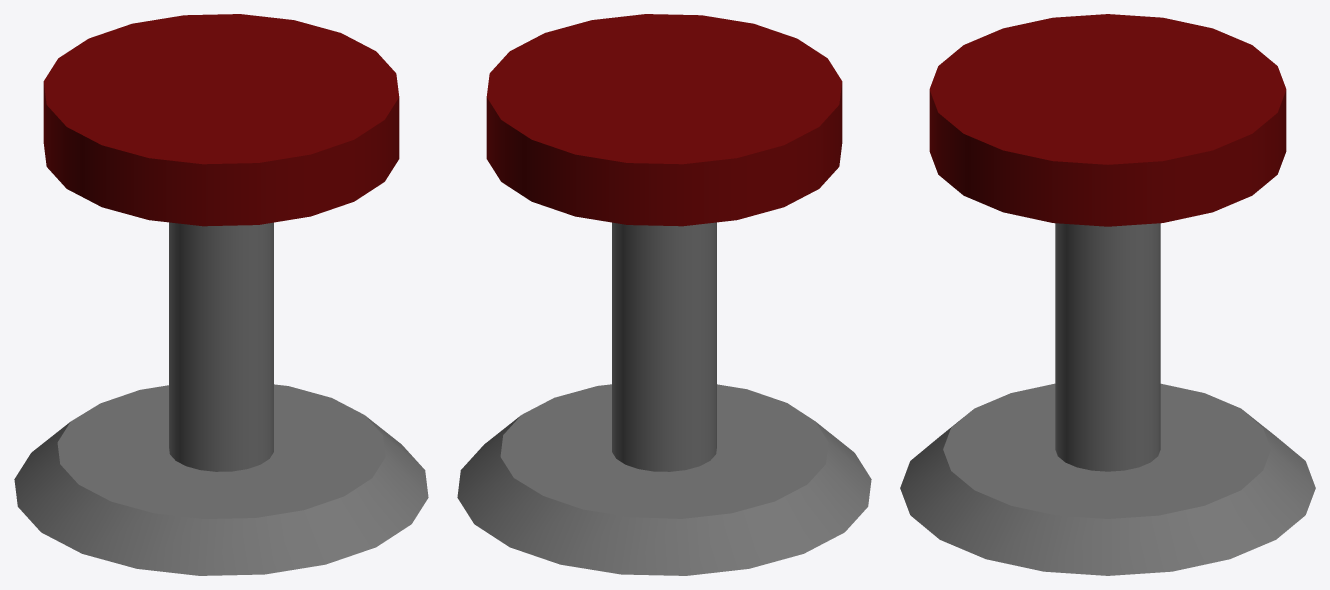
Rendered from Stool.fbx.
The picture shows the model from 3 angles, left to right: view 1: azimuth 30°, elevation 25°; view 2: azimuth 150°, elevation 25°; view 3: azimuth 270°, elevation 25°; orthographic projection.
Parts seen in each view (by area): view 1: pCylinder1, pCylinder3, pCylinder2; view 2: pCylinder1, pCylinder3, pCylinder2; view 3: pCylinder1, pCylinder3, pCylinder2.
Boxes of the visible parts, box(x1,y1,x2,y2) form: pCylinder1: box(43, 14, 399, 226); pCylinder3: box(14, 384, 428, 575); pCylinder2: box(169, 222, 273, 471); pCylinder1: box(486, 14, 842, 226); pCylinder3: box(457, 384, 871, 575); pCylinder2: box(612, 222, 716, 471); pCylinder1: box(929, 14, 1286, 226); pCylinder3: box(900, 383, 1315, 575); pCylinder2: box(1055, 223, 1160, 471).
Bounding box in the file's own units: 2.33 × 2.46 × 2.33.
